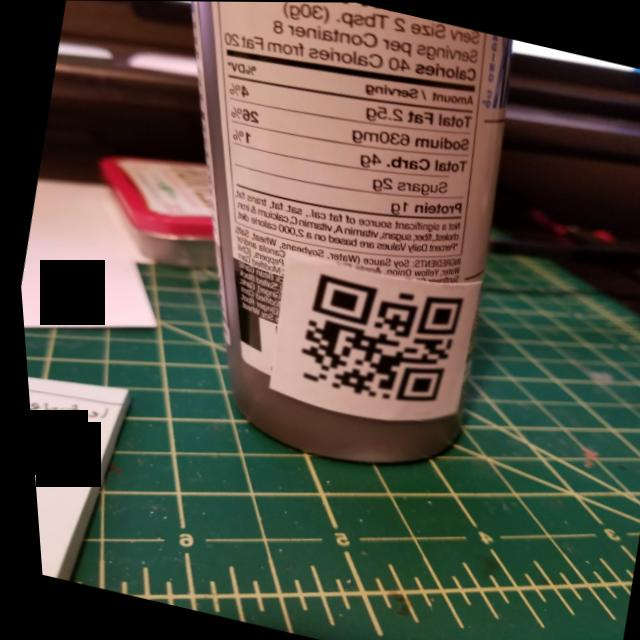QR_CODE: (258, 249, 479, 429)
